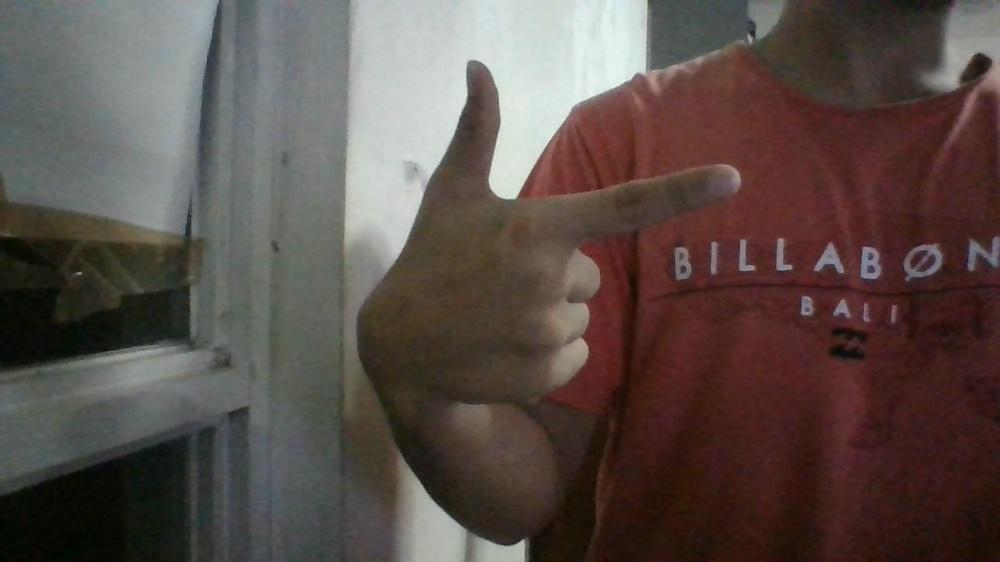g: (353, 58, 743, 407)
